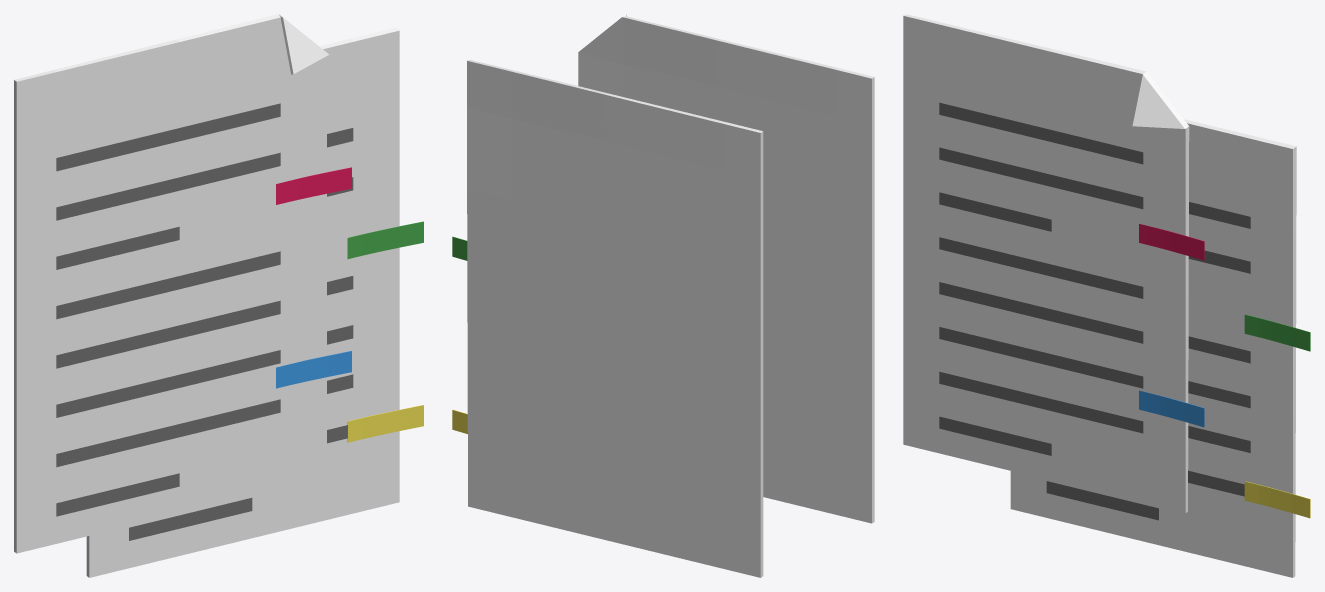
Rendered from bookmark_tabs.gltf.
The picture shows the model from 3 angles, left to right: view 1: azimuth 30°, elevation 25°; view 2: azimuth 150°, elevation 25°; view 3: azimuth 330°, elevation 25°; orthographic projection. The views are drawn at different scales.
Parts seen in each view (by area): view 1: Plane.324; view 2: Plane.324; view 3: Plane.324.
Part boxes in pixels (box(x1,y1,x2,y2)): Plane.324: box(14, 14, 423, 577); Plane.324: box(452, 14, 874, 577); Plane.324: box(903, 14, 1310, 577).
Size of the model in its own units: 1.73 by 2.07 by 0.2671.
1 material, 1 textured.
